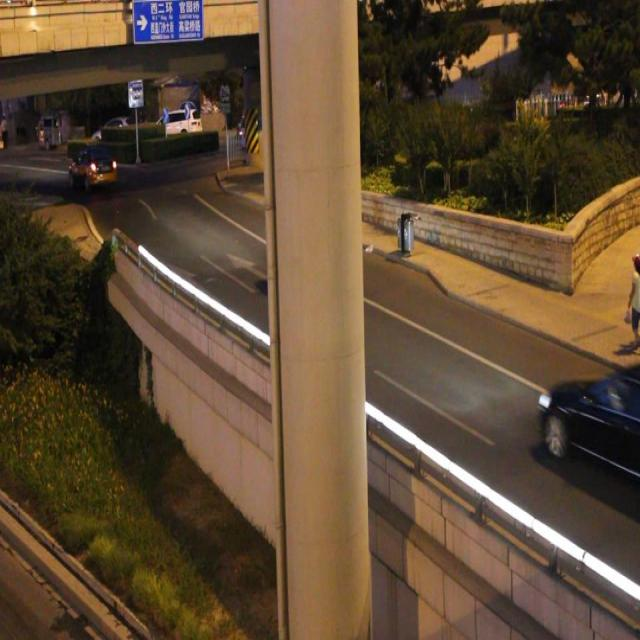car: (538, 357, 640, 489), (260, 216, 353, 310)
